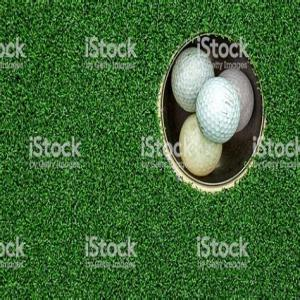Golf: (178, 115, 222, 174), (172, 48, 216, 104), (197, 82, 239, 140)
